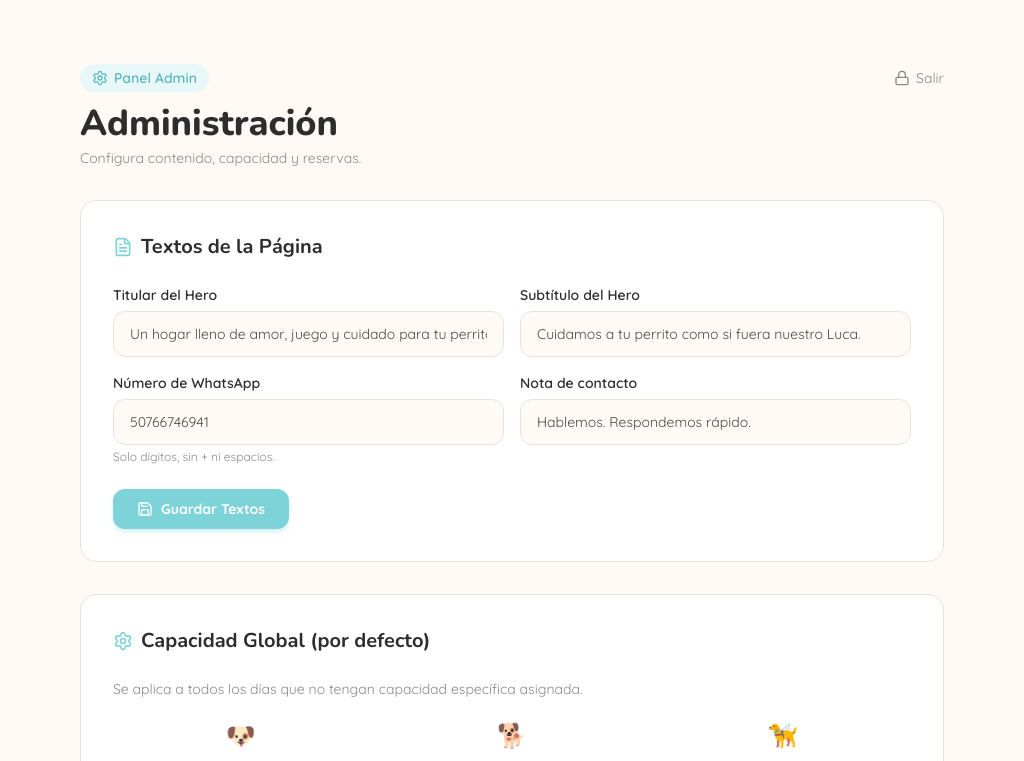
Test: Admin panel sections (authenticated) › logout button clears session and shows gate
The width and height of the screenshot is (1024, 761).
What coordinates should you click on to do the following:
click the button "Salir"
I would click on:
 (919, 78)
Its box is [894,68,944,88].
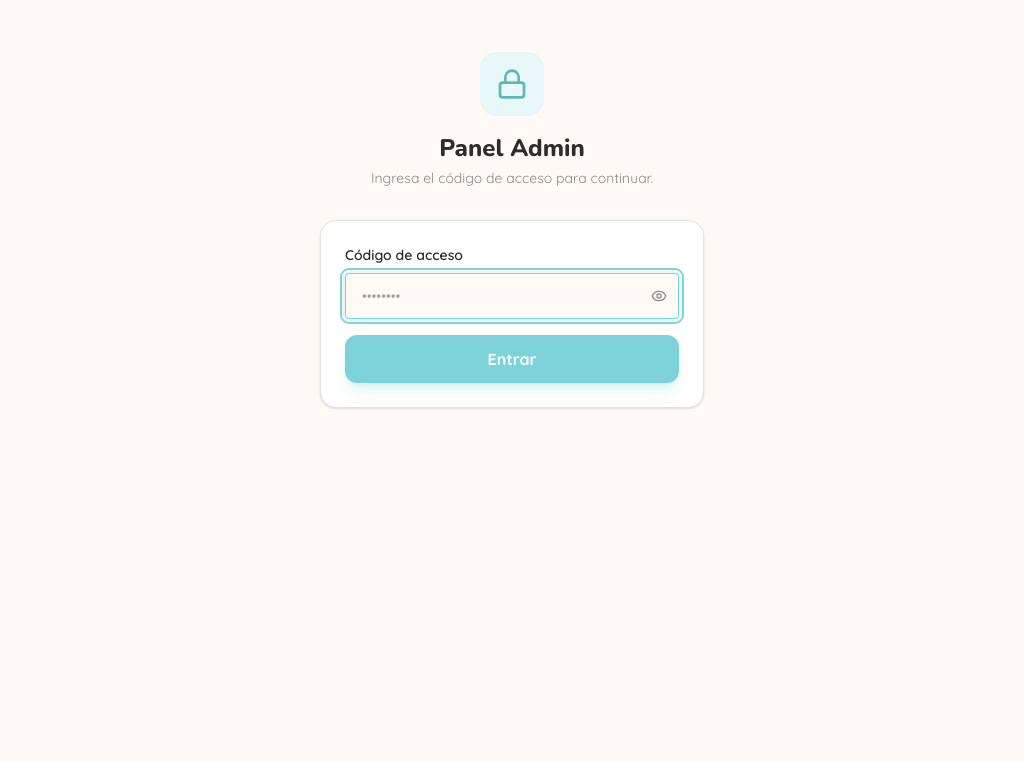
Expected: the password field with placeholder "••••••••" is shown, [345,273,679,319]
